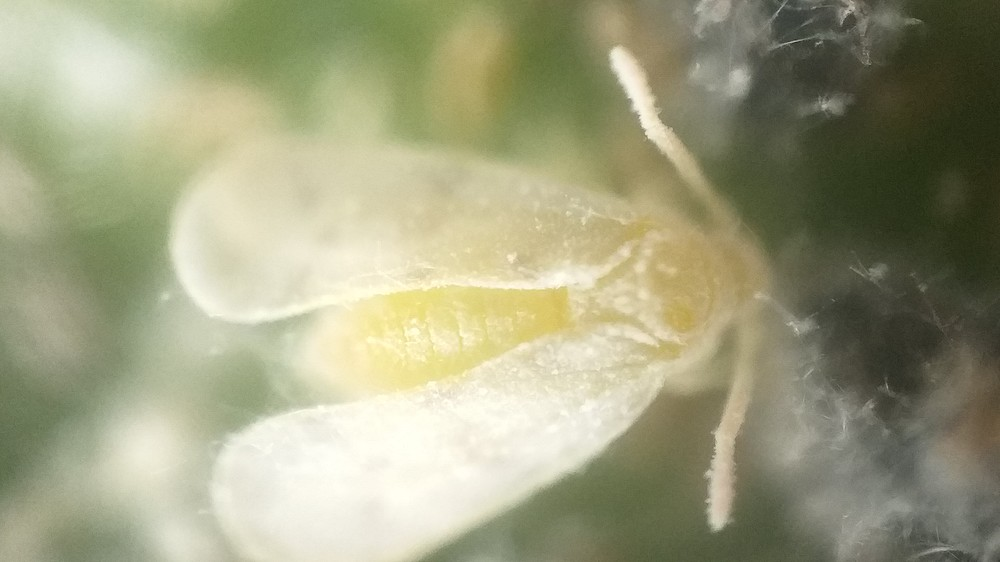Mosca Blanca: (150, 36, 803, 560)
